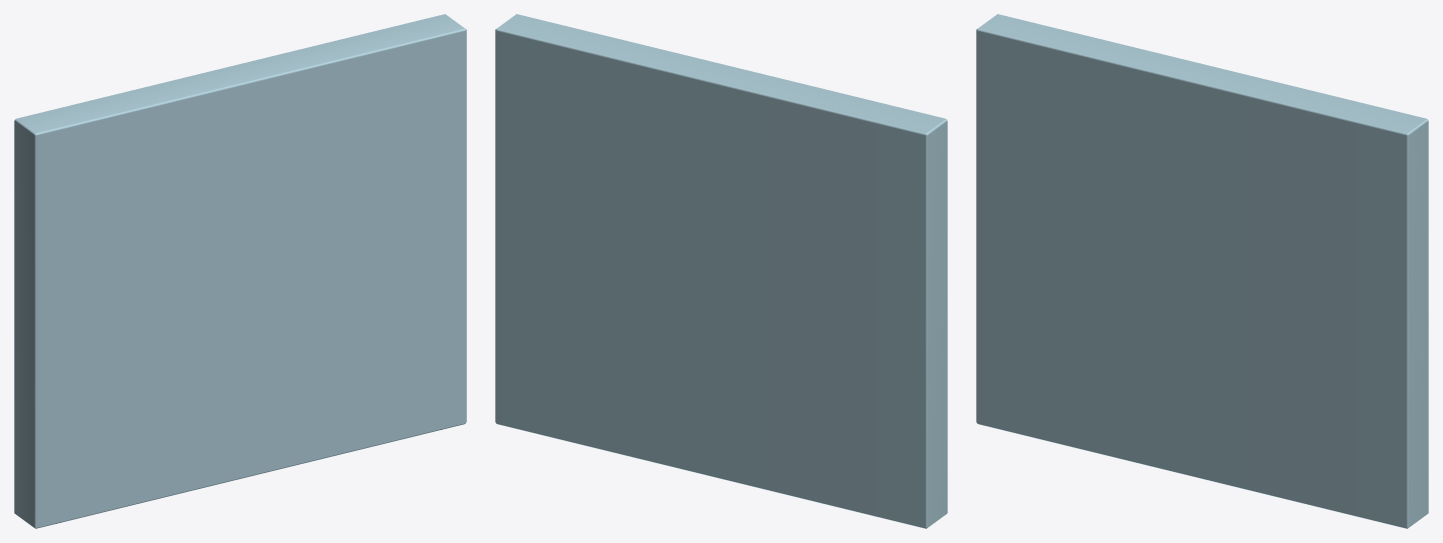
Rendered from Wall_blue.glb.
3 renders of one model, left to right at view 1: azimuth 30°, elevation 25°; view 2: azimuth 150°, elevation 25°; view 3: azimuth 330°, elevation 25°, orthographic.
Parts seen in each view (by area): view 1: Wall_37; view 2: Wall_37; view 3: Wall_37.
Part boxes in pixels (bbox=[...]): Wall_37: bbox=[14, 14, 466, 528]; Wall_37: bbox=[495, 14, 947, 528]; Wall_37: bbox=[976, 14, 1428, 528].
Size of the model in its own units: 4.6 by 4.02 by 0.4.
1 material, 1 textured.
